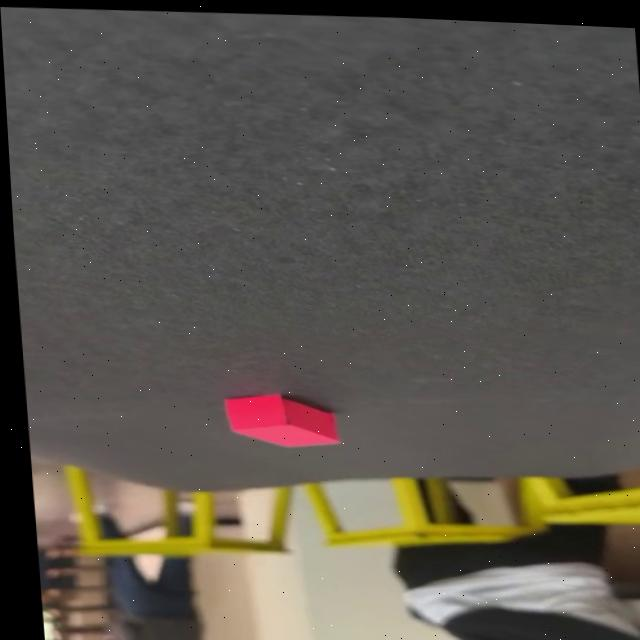red block: (221, 389, 341, 451)
